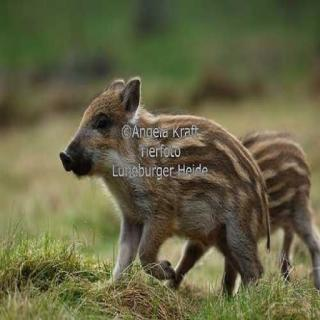Pig: (58, 65, 253, 309), (236, 128, 320, 268)
